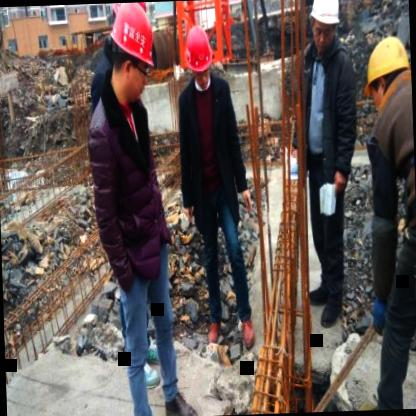helmet: (105, 4, 156, 103), (362, 34, 410, 118), (182, 22, 212, 93), (308, 0, 344, 53)
